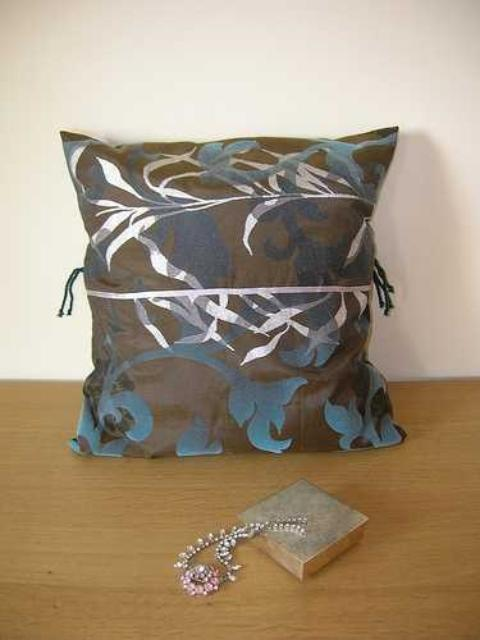pillow: (58, 124, 406, 458)
